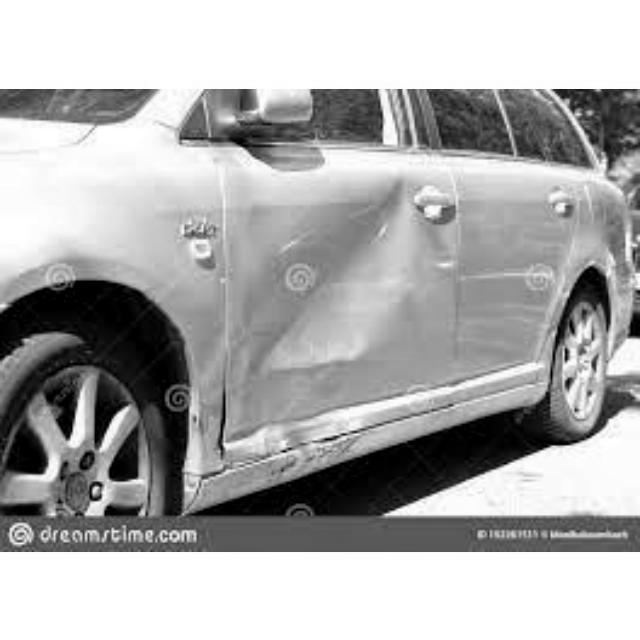Runningboard-Damage: (183, 423, 478, 498)
doorouter-dent: (219, 152, 451, 413), (452, 163, 597, 381)
